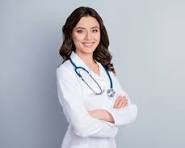Stethoscope: (61, 53, 119, 97)
White_coat: (51, 46, 142, 148)
